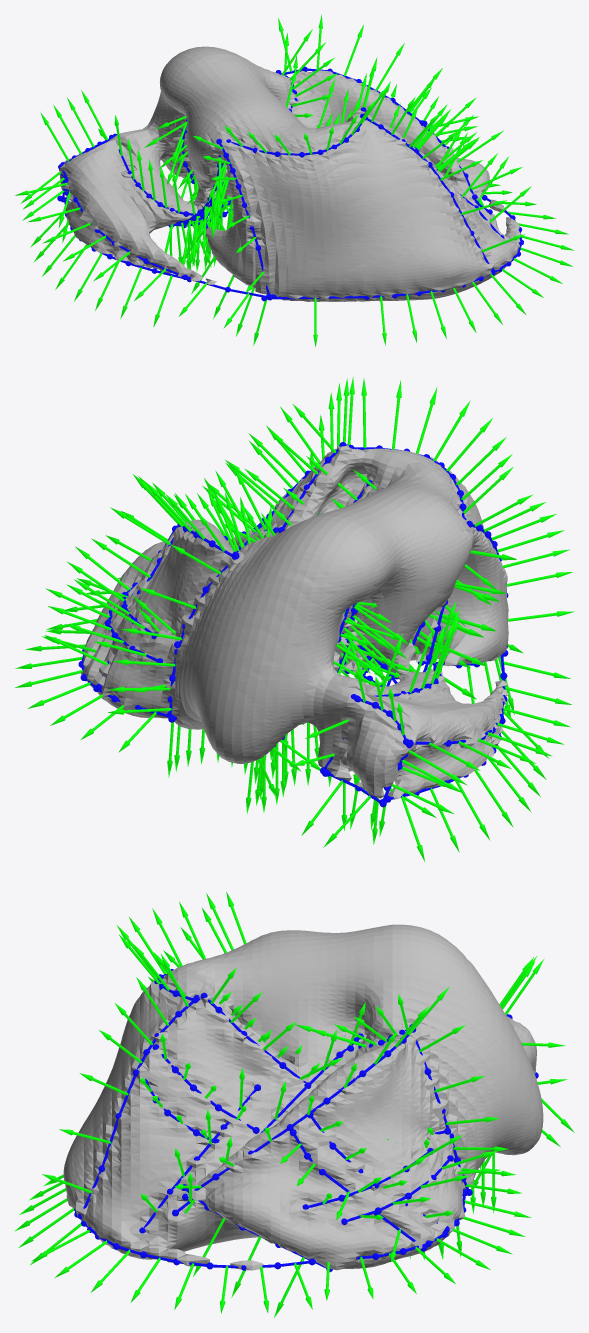
File: author1_building.gltf
3 renders of one model, top to bottom at view 1: azimuth 30°, elevation 25°; view 2: azimuth 150°, elevation 25°; view 3: azimuth 270°, elevation 25°, orthographic. The views are drawn at different scales.
Bounding box in the file's own units: 0.8792 × 0.4626 × 0.7975.
